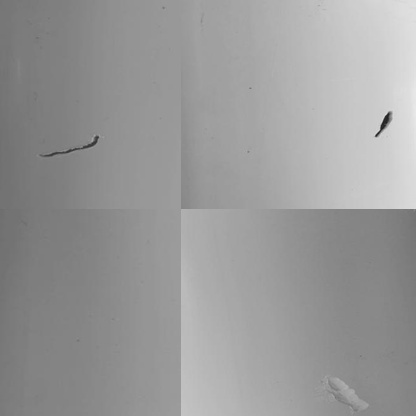fengxi: (32, 134, 110, 160)
kongdong: (374, 111, 392, 137)
sunshang: (322, 370, 371, 409)
